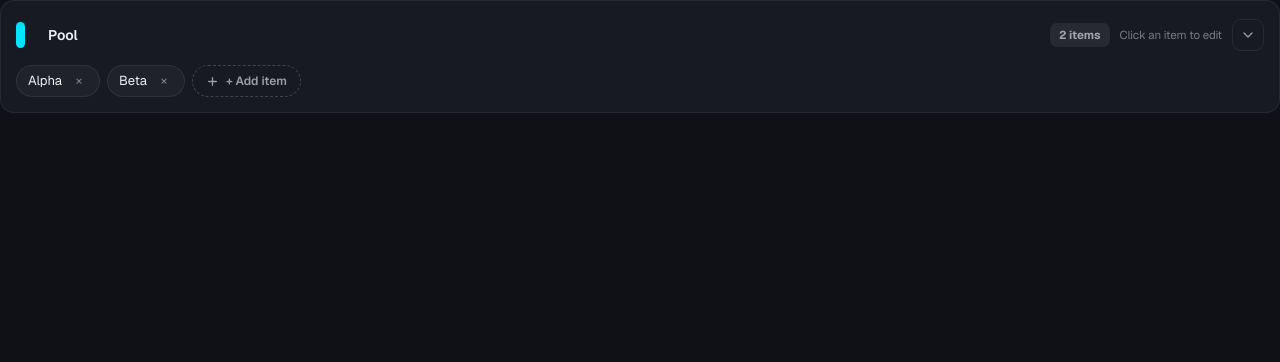
Scenario: GroupEditor progressive disclosure (T5) › expands the add panel on click and collapses it back on Cancel
What coordinates should you click on to do the following:
click the button "+ Add item"
I would click on:
 (246, 81)
Its box is [192, 65, 301, 97].
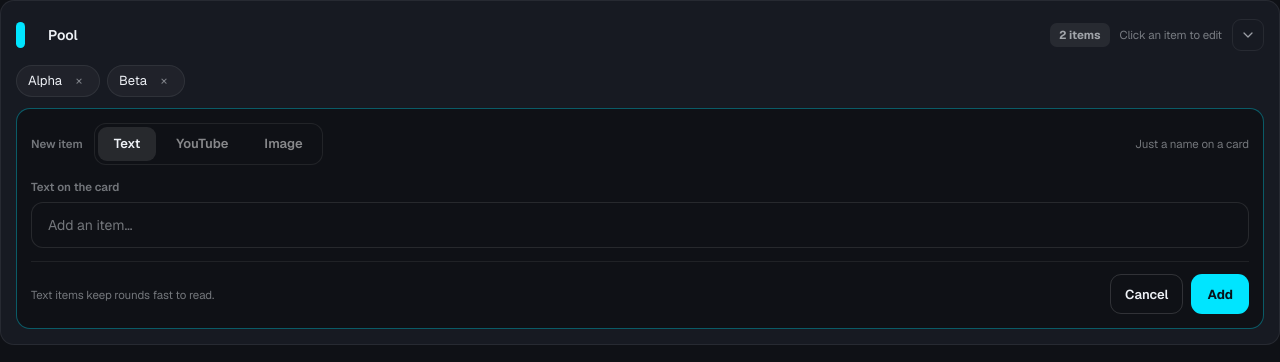
Check: the field named "Pool 1 new item" is shown, box [31, 202, 1249, 248]
Check: the button "+ Add item" is gone
What coordinates should you click on to do the following:
click the button "Cancel"
I would click on:
 (1147, 294)
Its box is [1110, 274, 1184, 314].
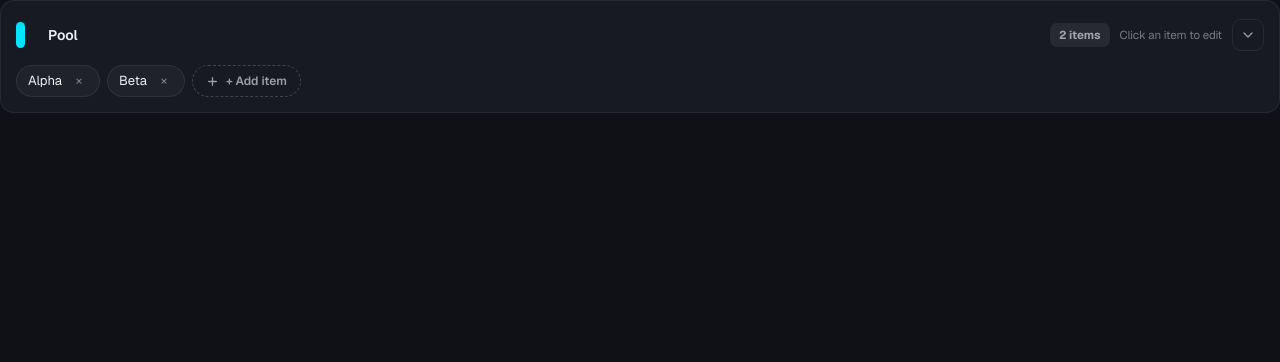
Check: the button "+ Add item" is shown, box [192, 65, 301, 97]
